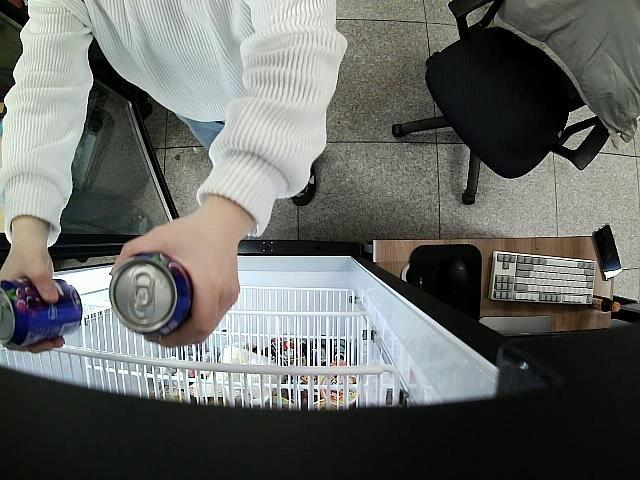14_welchsGrape: (109, 255, 194, 338), (0, 276, 83, 348)
